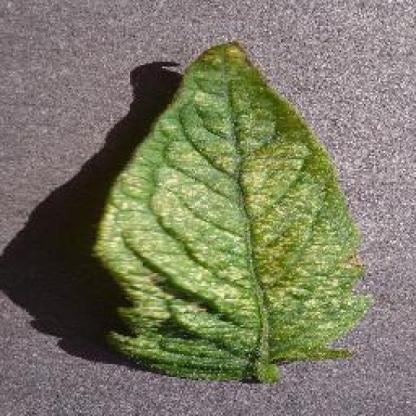Tomato_Spider_Mites: (92, 42, 359, 377)
